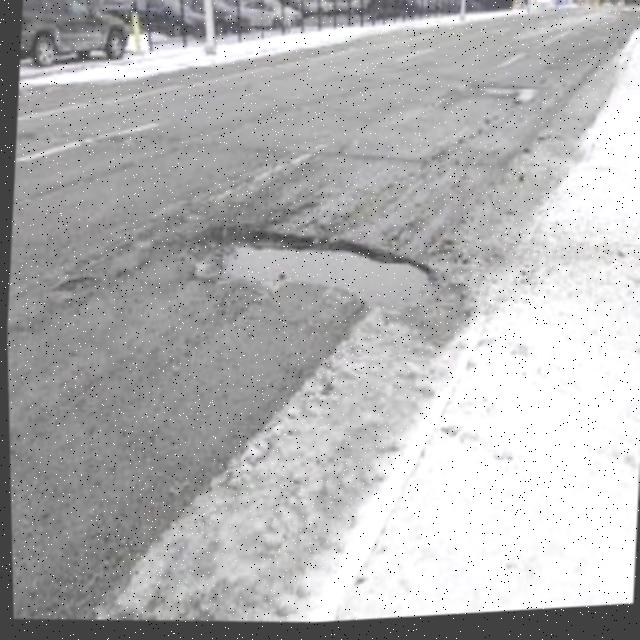Pothole: (186, 214, 440, 321)
